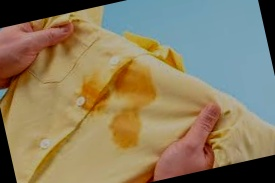mustard: (108, 60, 159, 110), (106, 103, 144, 151), (79, 74, 112, 112)
